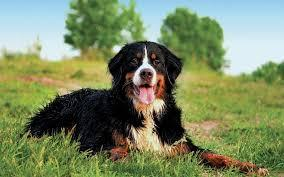Dog: (108, 38, 184, 102)
